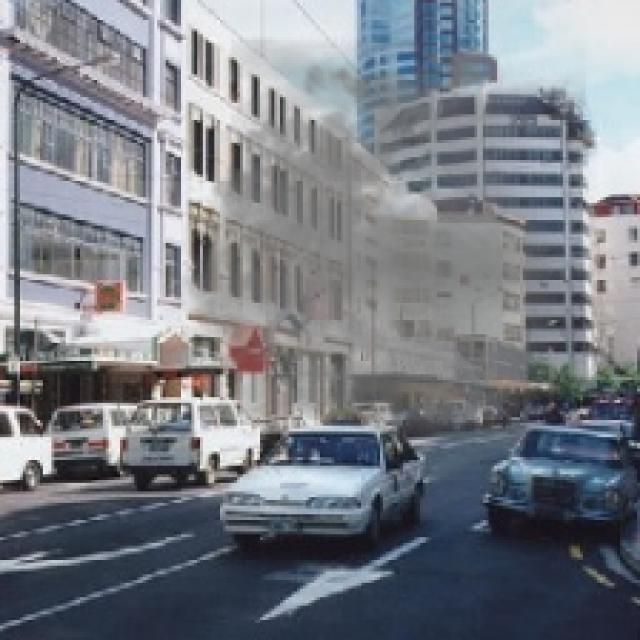Smoke: (160, 37, 586, 452)
